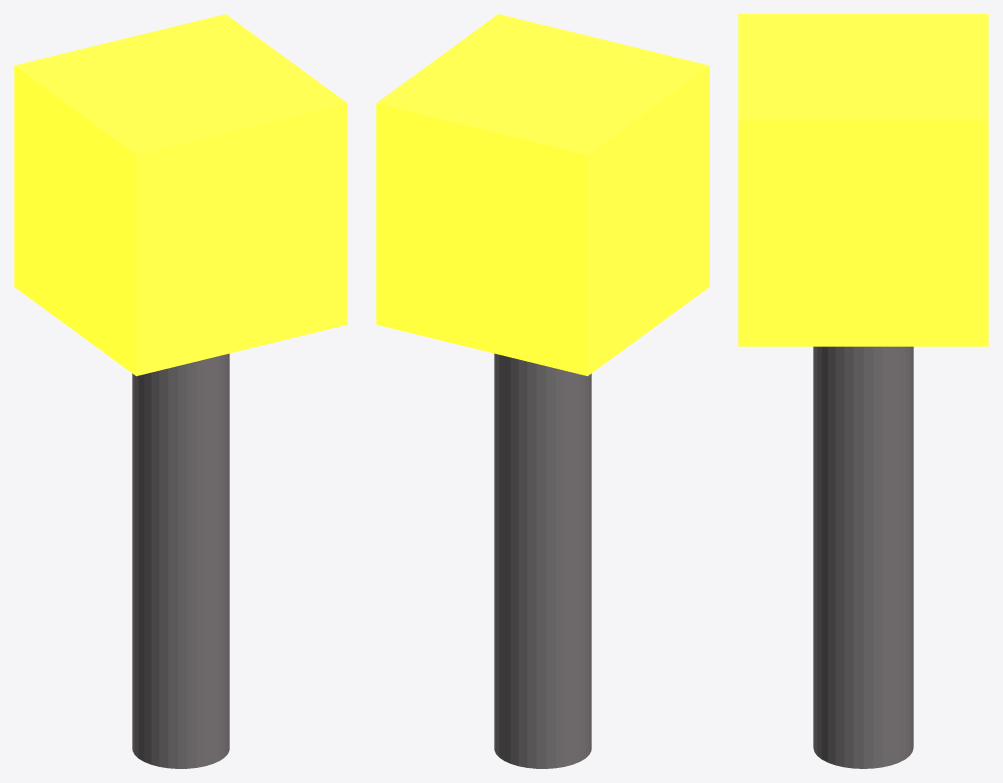
File: emmision-test-old.glb
3 renders of one model, left to right at view 1: azimuth 30°, elevation 25°; view 2: azimuth 150°, elevation 25°; view 3: azimuth 270°, elevation 25°, orthographic. The views are drawn at different scales.
Visible parts, largest first — view 1: 立方体, 円柱; view 2: 立方体, 円柱; view 3: 立方体, 円柱.
Boxes of the visible parts, <box> form: 立方体: <box>14,14,347,376</box>; 円柱: <box>132,353,229,768</box>; 立方体: <box>376,14,709,376</box>; 円柱: <box>494,353,591,768</box>; 立方体: <box>738,14,988,346</box>; 円柱: <box>813,346,913,768</box>.
Size of the model in its own units: 1 by 3 by 1.
